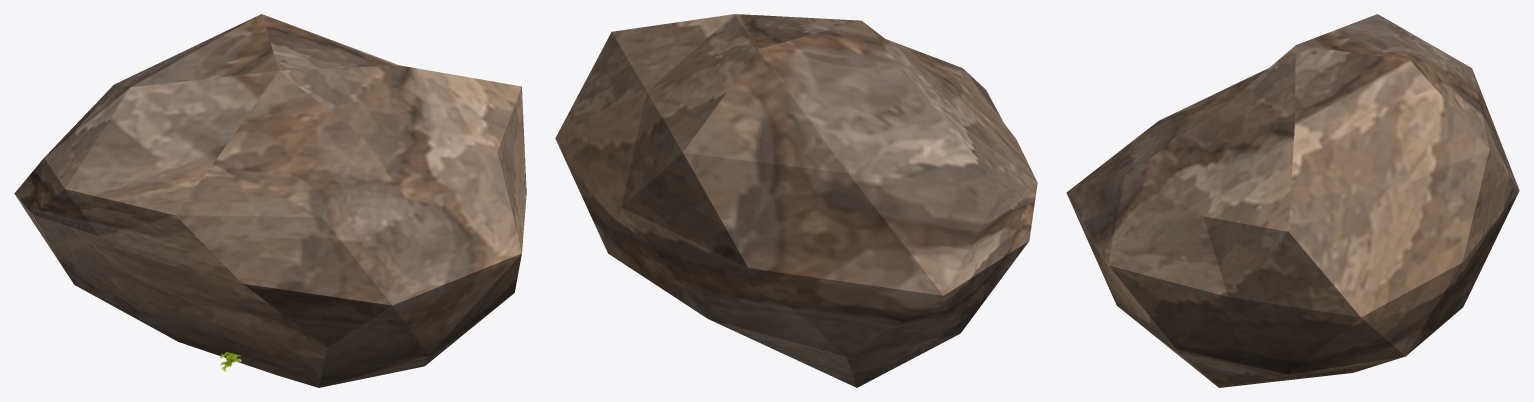
The model's file is rock-shore-2.glb.
The picture shows the model from 3 angles, left to right: view 1: azimuth 30°, elevation 25°; view 2: azimuth 150°, elevation 25°; view 3: azimuth 270°, elevation 25°; orthographic projection. The views are drawn at different scales.
Parts seen in each view (by area): view 1: rock-shore-2; view 2: rock-shore-2; view 3: rock-shore-2.
Part boxes in pixels (<box>): rock-shore-2: <box>14,14,526,387</box>; rock-shore-2: <box>555,14,1037,387</box>; rock-shore-2: <box>1066,14,1519,387</box>.
Bounding box in the file's own units: 2.51 × 1.6 × 2.17.
Materials: 2 (2 with a texture image).
